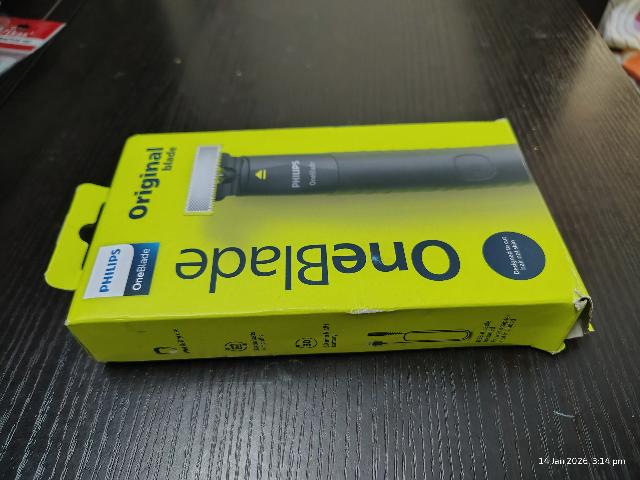phillips oneblade: (73, 115, 582, 358)
